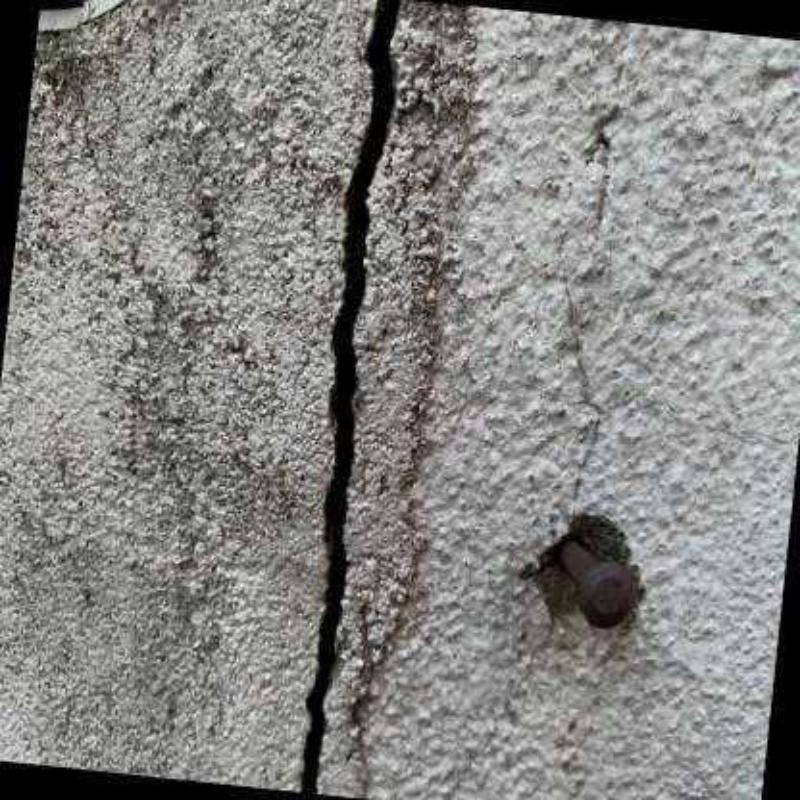pothole: (299, 0, 401, 794), (563, 275, 612, 519)
